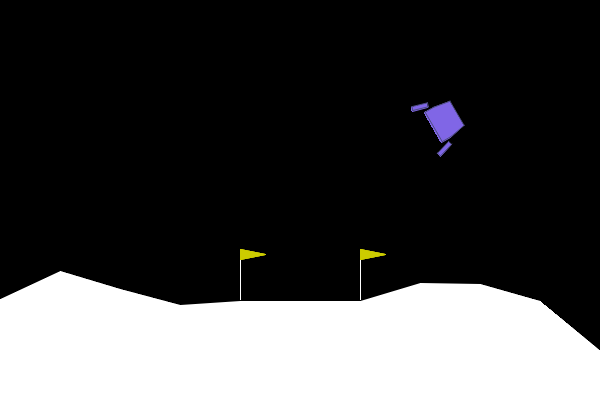lander: (409, 87, 473, 159)
